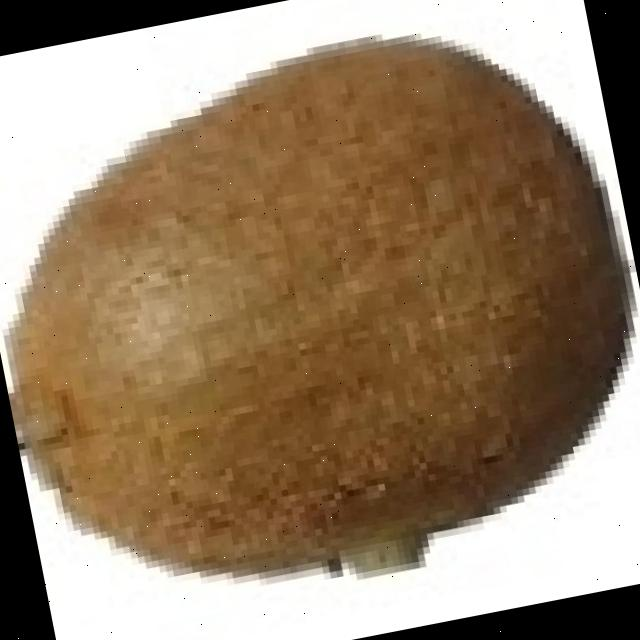kiwi: (1, 33, 616, 562)
